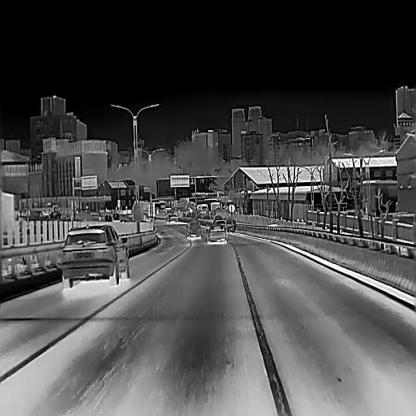car: (59, 224, 128, 288), (208, 224, 226, 242), (186, 220, 200, 237), (215, 220, 226, 232), (196, 203, 208, 213), (166, 214, 177, 222), (103, 213, 112, 222), (111, 211, 120, 220)
truck: (130, 200, 154, 223)
